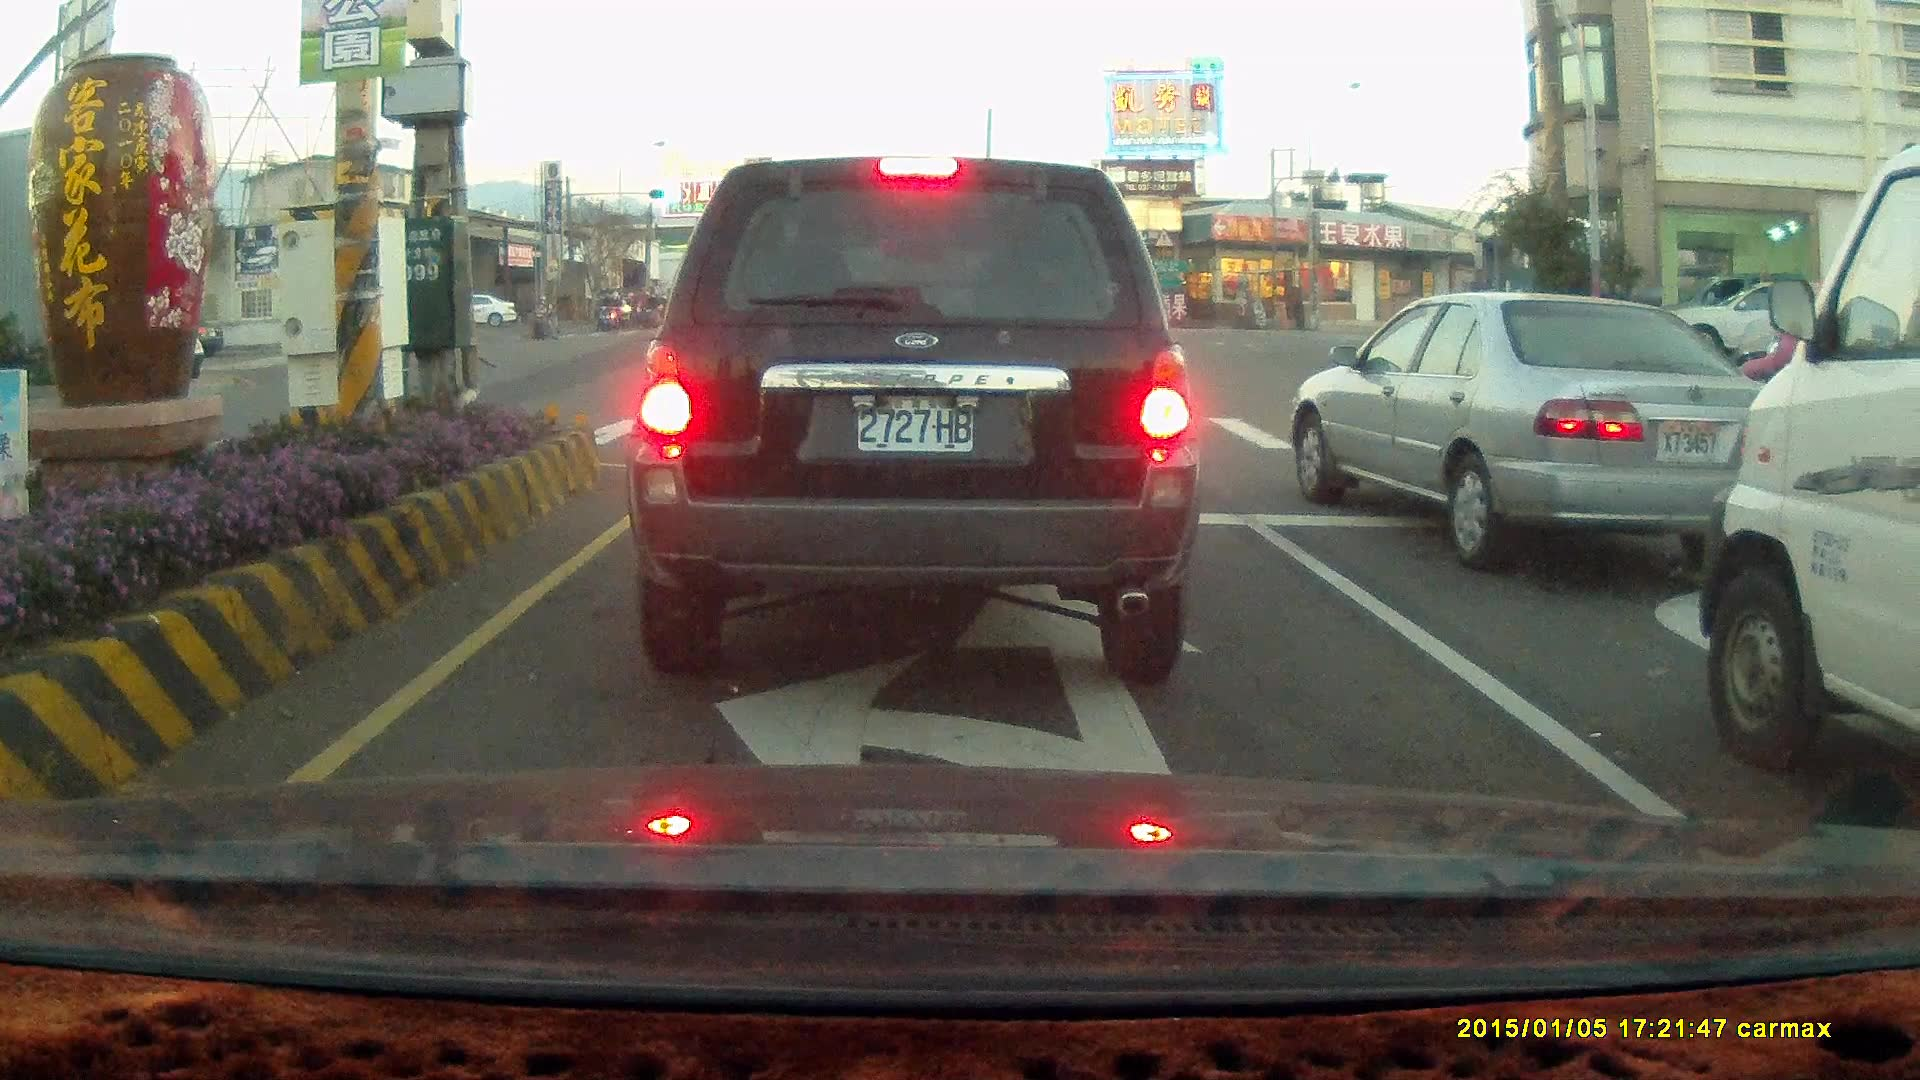rider: (526, 288, 557, 339), (591, 289, 612, 330), (603, 293, 624, 328), (639, 289, 660, 326)
vehicle: (624, 154, 1202, 686), (1696, 127, 1920, 789), (1289, 292, 1807, 575), (1297, 289, 1777, 565), (1649, 273, 1862, 375), (1668, 275, 1823, 373), (448, 295, 519, 329)
